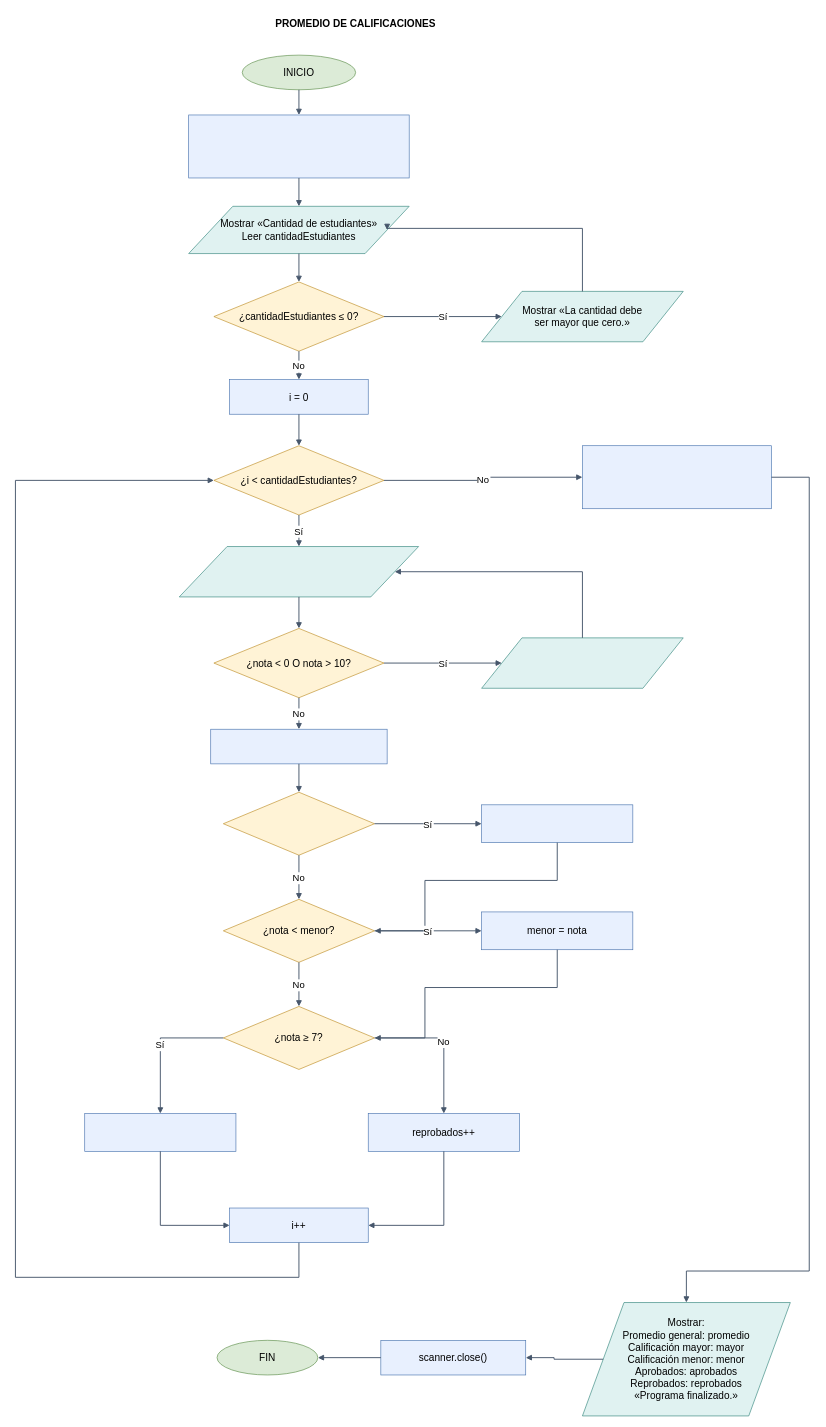
This 826x1427 diagram has some shape labels left out. Each missing label, with the box of its shape:
aprobados++: (84, 1113, 236, 1151)
Crear Scanner aprobados = 0; reprobados = 0 suma = 0; mayor = 0; menor = 10: (188, 114, 409, 178)
mayor = nota: (481, 804, 633, 843)
Mostrar «La nota debe estar entre 0 y 10.»: (481, 637, 683, 688)
Mostrar «Nota del estudiante » + (i + 1) Leer nota: (179, 546, 419, 597)
promedio = suma / cantidadEstudiantes: (582, 445, 771, 509)
suma = suma + nota: (210, 729, 387, 764)
¿nota > mayor?: (223, 792, 375, 855)
